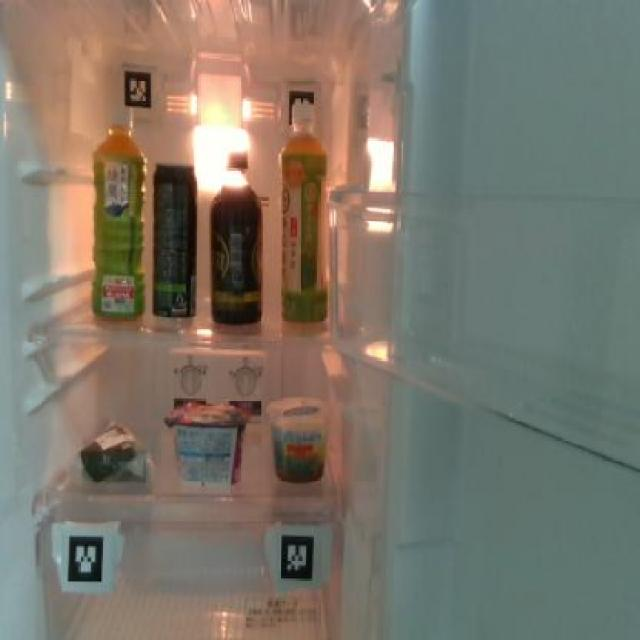coffee: (208, 145, 266, 327)
energy_drink: (150, 160, 198, 322)
pudding: (264, 393, 330, 482)
rice_ball: (73, 416, 150, 487)
tea_a: (88, 107, 148, 318)
tea_i: (276, 126, 329, 332)
yogurt: (163, 402, 252, 488)
